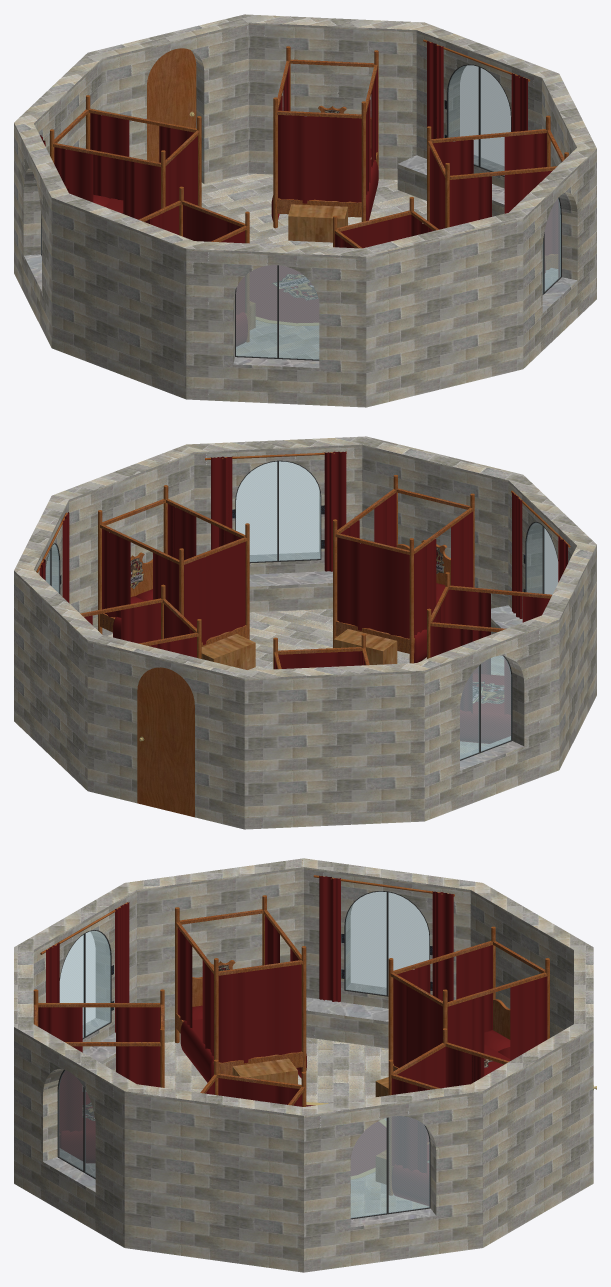
3 views of the same model, one above another, from view 1: azimuth 30°, elevation 25°; view 2: azimuth 150°, elevation 25°; view 3: azimuth 270°, elevation 25° (orthographic). The views are drawn at different scales.
Parts seen in each view (by area): view 1: Component_32 (×8), Component_18 (×17), Component_25 (×5), Component_29, Component_21 (×3), Component_30, Component_22, Component_19 (×2), Component_20, Component_17, mattressfull_1; view 2: Component_32 (×6), Component_18 (×19), Component_25 (×6), Component_29, Component_21 (×4), Component_22 (×2), mattressfull_1, Component_19 (×3), Component_20 (×2), Component_17, Component_24; view 3: Component_32 (×7), Component_18 (×21), Component_25 (×8), Component_21 (×5), mattressfull_1 (×3), Component_19 (×2), Component_30, Component_22, Component_20, Component_24.
Part boxes in pixels (x1,y1,x2,y2): Component_32 (×8): [14, 14, 596, 407]; Component_18 (×17): [54, 41, 557, 255]; Component_25 (×5): [236, 65, 560, 359]; Component_29: [147, 48, 196, 162]; Component_21 (×3): [53, 59, 564, 179]; Component_30: [250, 265, 318, 322]; Component_22: [288, 204, 347, 242]; Component_19 (×2): [273, 97, 365, 228]; Component_20: [277, 152, 377, 217]; Component_17: [272, 274, 317, 300]; mattressfull_1: [271, 159, 378, 221]; Component_32 (×6): [14, 436, 596, 829]; Component_18 (×19): [62, 451, 549, 713]; Component_25 (×6): [236, 461, 558, 759]; Component_29: [137, 667, 194, 817]; Component_21 (×4): [80, 488, 551, 645]; Component_22 (×2): [201, 629, 397, 669]; mattressfull_1: [460, 673, 510, 743]; Component_19 (×3): [245, 519, 413, 663]; Component_20 (×2): [100, 613, 414, 653]; Component_17: [473, 681, 503, 703]; Component_24: [130, 552, 152, 596]; Component_32 (×7): [14, 858, 593, 1272]; Component_18 (×21): [38, 876, 547, 1173]; Component_25 (×8): [58, 891, 429, 1218]; Component_21 (×5): [34, 909, 547, 1089]; mattressfull_1 (×3): [60, 1019, 428, 1205]; Component_19 (×2): [301, 946, 393, 1072]; Component_30: [306, 1105, 386, 1175]; Component_22: [232, 1058, 297, 1084]; Component_20: [176, 1013, 302, 1075]; Component_24: [493, 999, 510, 1039].
Bounding box in the file's own units: 371 × 355 × 105.
